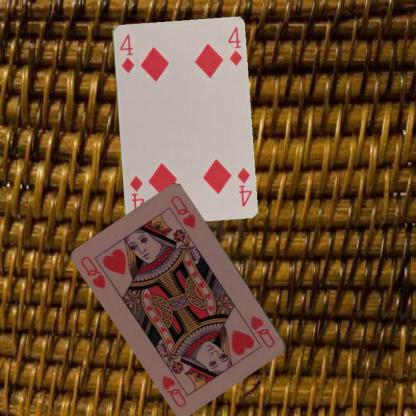4d: (234, 165, 253, 208), (117, 31, 135, 74)
Qh: (78, 254, 107, 291), (248, 313, 277, 349)
